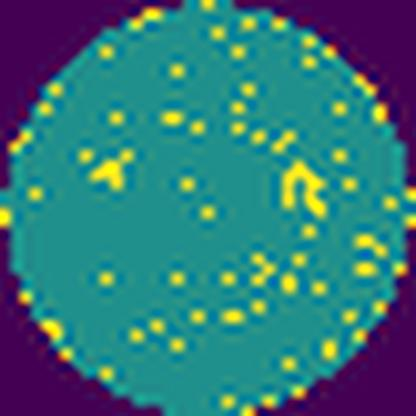Edge-Loc: (285, 160, 325, 221), (90, 148, 134, 192)
